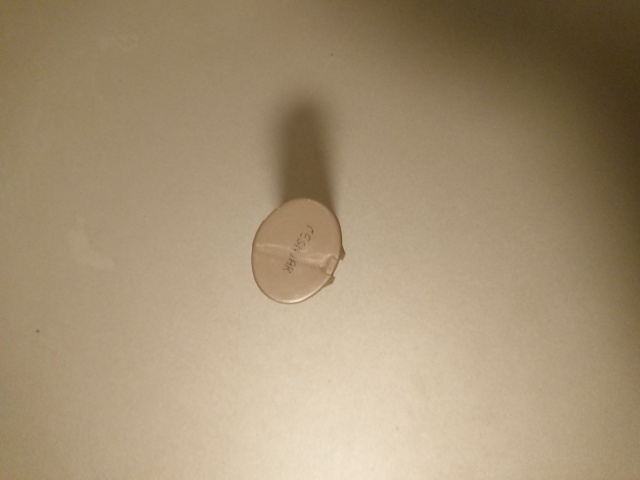Kotanyi Garlic Granules 70g: (249, 197, 348, 308)
